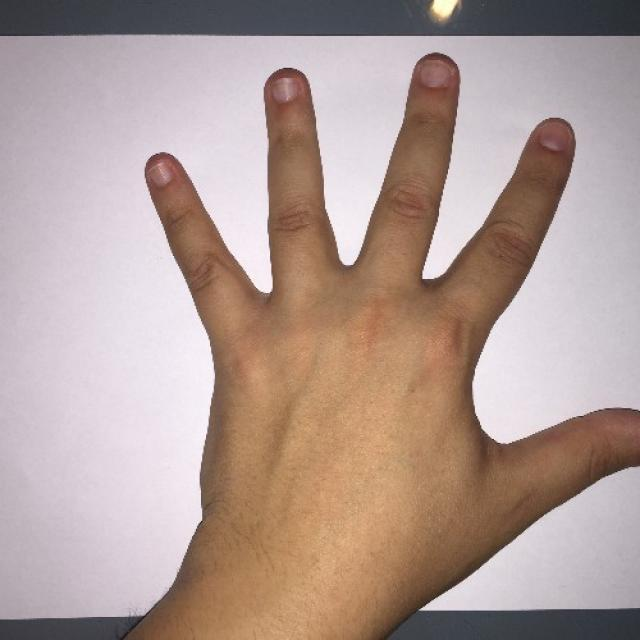paper: (144, 50, 640, 513)
